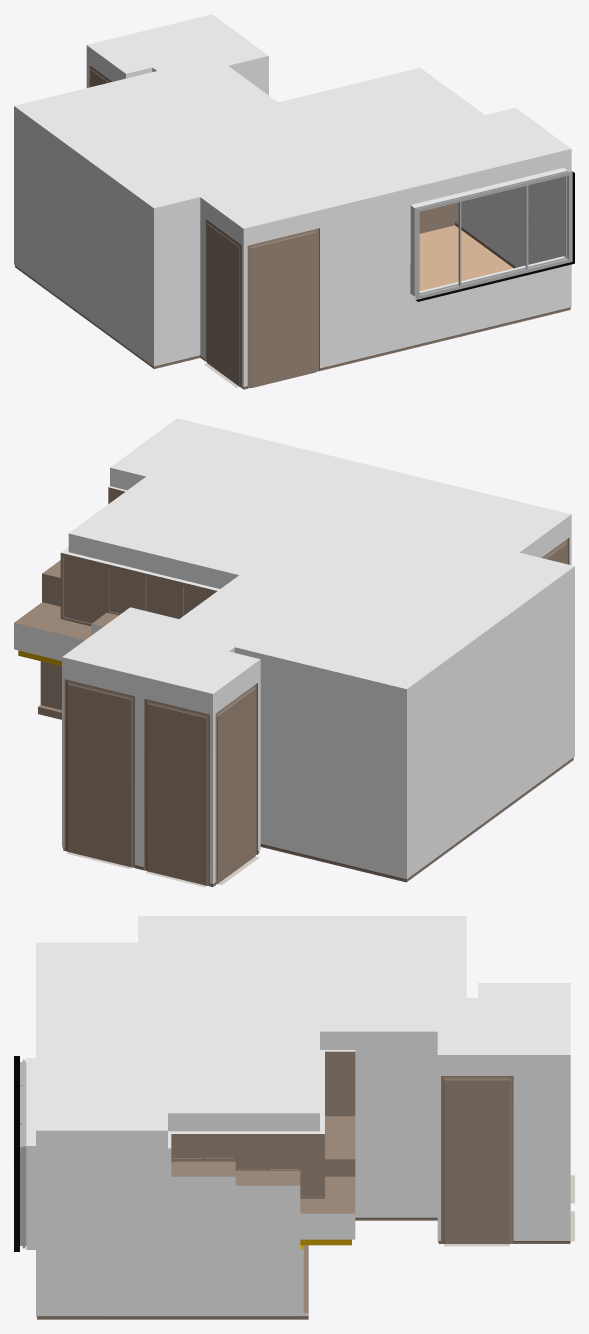
Rendered from IC_509_UNDERGROUND_PartsBundle_01.fbx.
3 views of the same model, one above another, from view 1: azimuth 30°, elevation 25°; view 2: azimuth 150°, elevation 25°; view 3: azimuth 270°, elevation 25° (orthographic). The views are drawn at different scales.
Visible parts, largest first — view 1: Walls, Ceiling1, DoorFrames, WindowFrame, FloorKitchen, BaseBoard1, CabinetLower1, BaseBoard3; view 2: Ceiling1, Walls, DoorFrames, CabinetUpper, CabinetLower1, BaseBoard3; view 3: Ceiling1, Walls, CabinetUpper, DoorFrames, WindowFrame, BaseBoard1.
Boxes of the visible parts, <box> form: Walls: <box>14,45,571,386</box>; Ceiling1: <box>14,14,571,228</box>; DoorFrames: <box>88,65,319,388</box>; WindowFrame: <box>414,171,574,301</box>; FloorKitchen: <box>419,225,513,290</box>; BaseBoard1: <box>320,222,570,370</box>; CabinetLower1: <box>419,202,457,233</box>; BaseBoard3: <box>15,265,204,368</box>; Ceiling1: <box>62,418,574,693</box>; Walls: <box>14,467,574,883</box>; DoorFrames: <box>64,538,569,886</box>; CabinetUpper: <box>14,487,217,639</box>; CabinetLower1: <box>38,661,61,719</box>; BaseBoard3: <box>258,757,573,882</box>; Ceiling1: <box>36,916,570,1130</box>; Walls: <box>26,1031,570,1316</box>; CabinetUpper: <box>171,1051,355,1213</box>; DoorFrames: <box>441,1076,570,1244</box>; WindowFrame: <box>14,1056,26,1251</box>; BaseBoard1: <box>36,1316,308,1319</box>.
Bounding box in the file's own units: 5.69 × 2.34 × 6.29.
